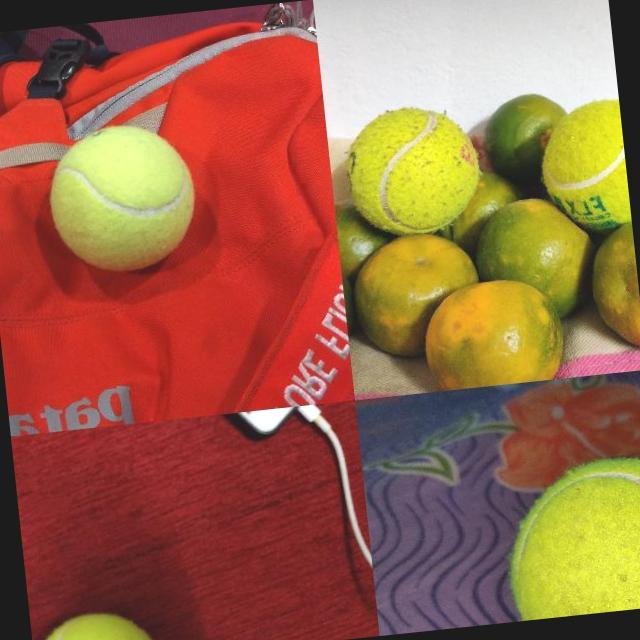Tennis Ball: (41, 117, 202, 279), (498, 451, 640, 620), (339, 99, 486, 239), (561, 97, 631, 223), (30, 604, 163, 640)
